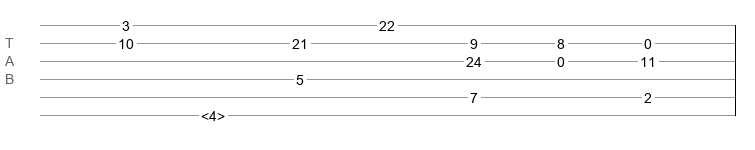0: (557, 54, 565, 64), (644, 36, 652, 46)
10: (118, 36, 134, 46)
11: (640, 54, 656, 64)
2: (644, 90, 652, 100)
21: (292, 36, 308, 46)
22: (379, 18, 395, 28)
24: (466, 54, 482, 64)
3: (122, 18, 130, 28)
5: (296, 72, 304, 82)
7: (470, 90, 478, 100)
8: (557, 36, 565, 46)
9: (470, 36, 478, 46)
harmonic: (201, 108, 225, 118)
